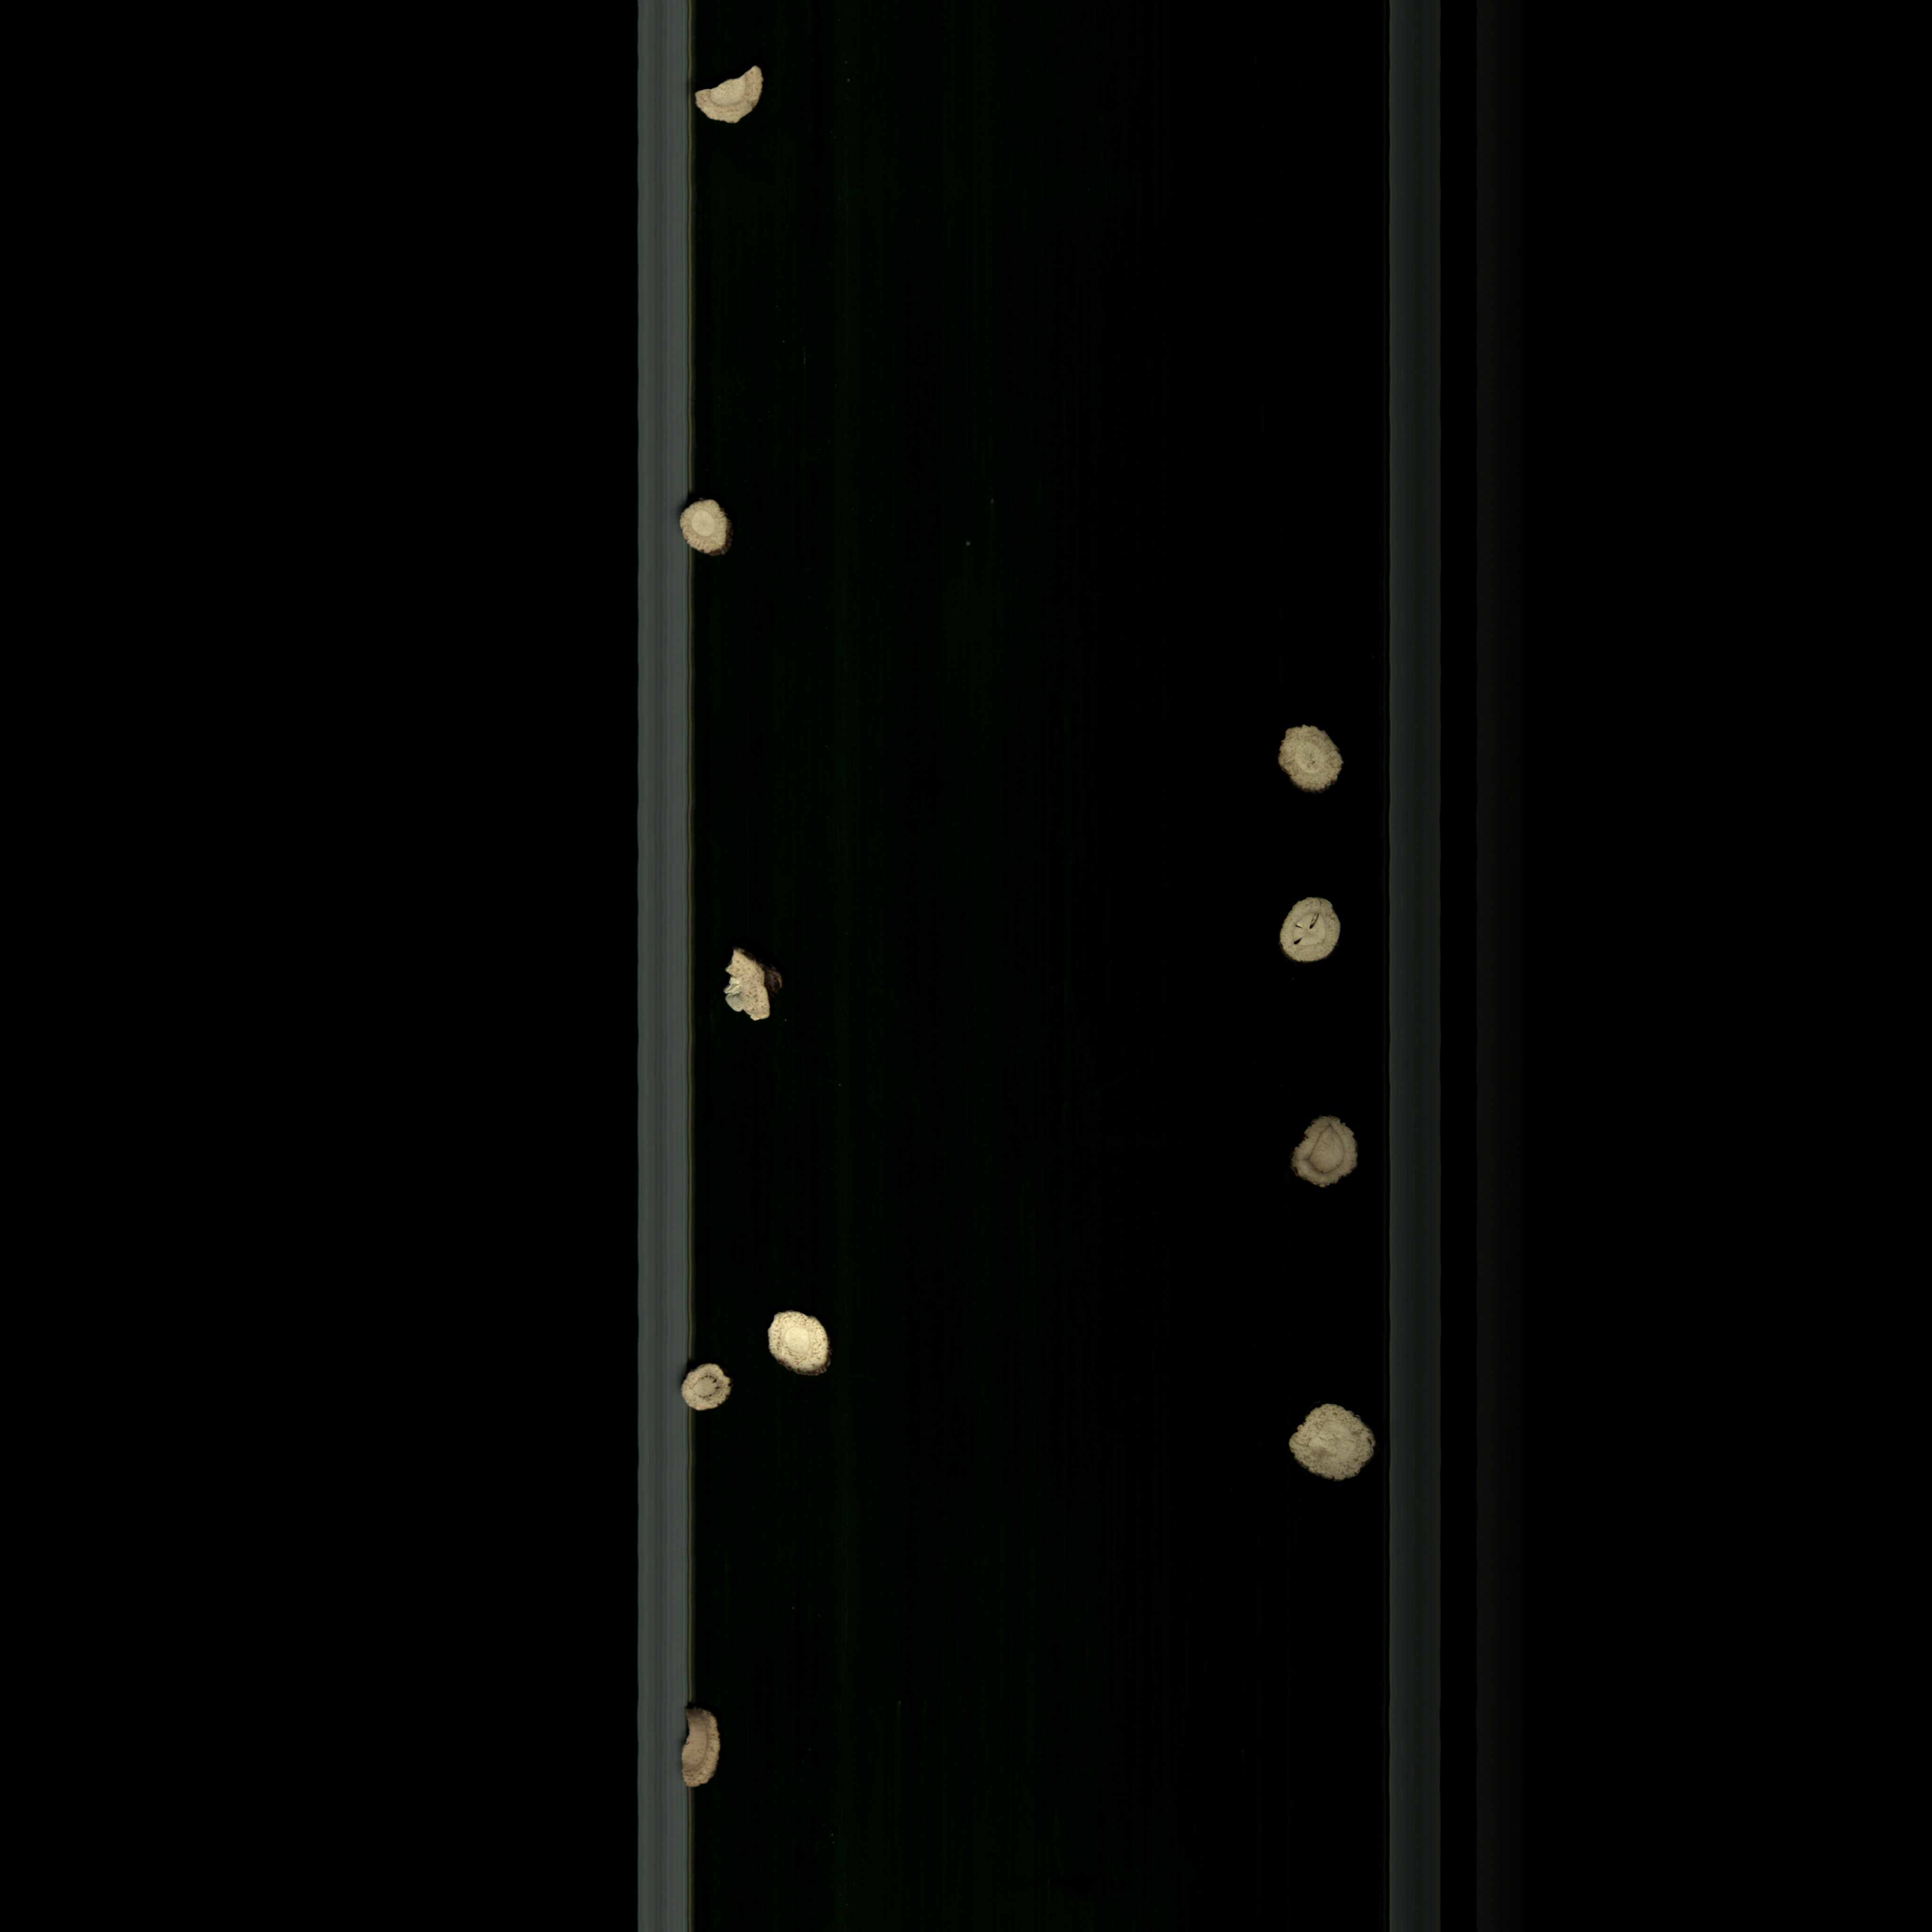debris: (694, 60, 773, 127)
dreg: (715, 938, 812, 1030), (669, 1698, 738, 1806)
hole: (1276, 886, 1346, 973), (663, 1357, 736, 1415)
moldy: (1277, 1399, 1382, 1490), (1286, 1116, 1371, 1198), (1274, 722, 1348, 796)
